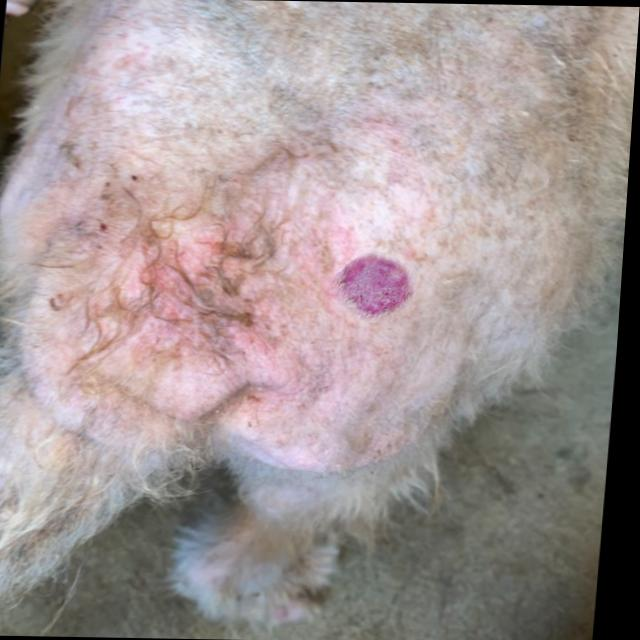ringworm: (318, 223, 437, 356)
